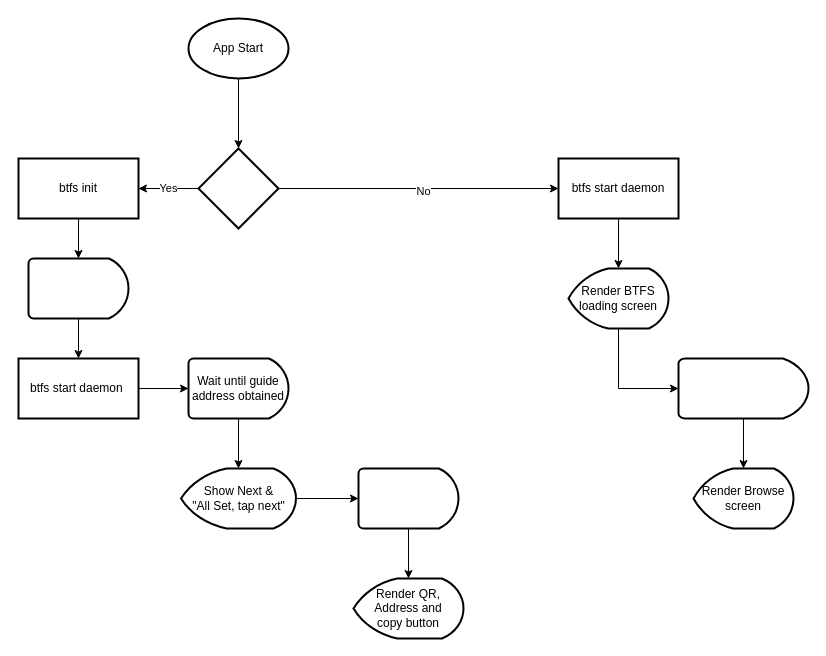
Image size: 826x656. Some labels were removed from this diagram. The centre of each missing label's shape, as x and y in pixels:
First time open?: point 238,188
wait till btfs repo created: point 78,288
Wait till user press Next button: point 408,498
Wait until normal BTTC address obtained (btfs daemon loads): point 743,388
